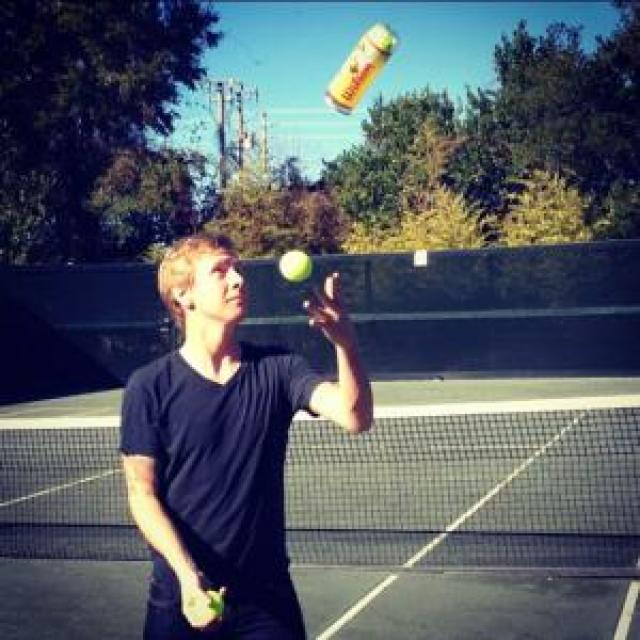Tennis-Ball: (279, 253, 313, 282)
